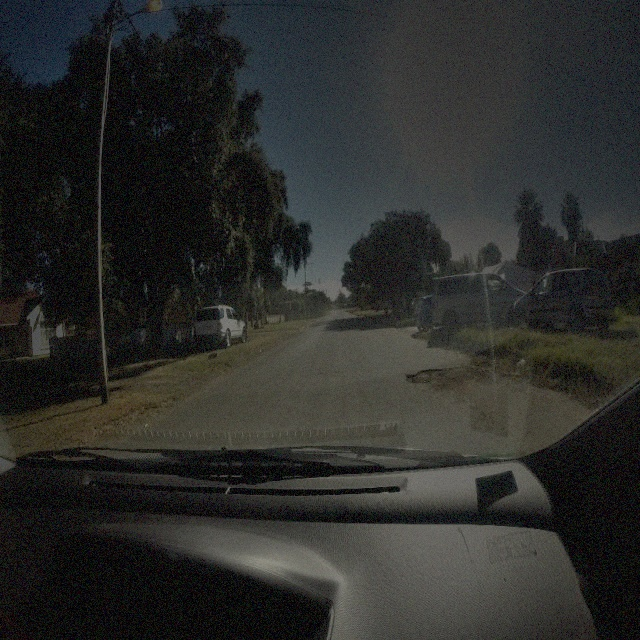pothole: (404, 364, 491, 396)
